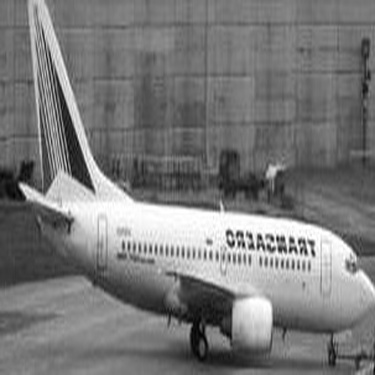airplane: (7, 3, 370, 371)
